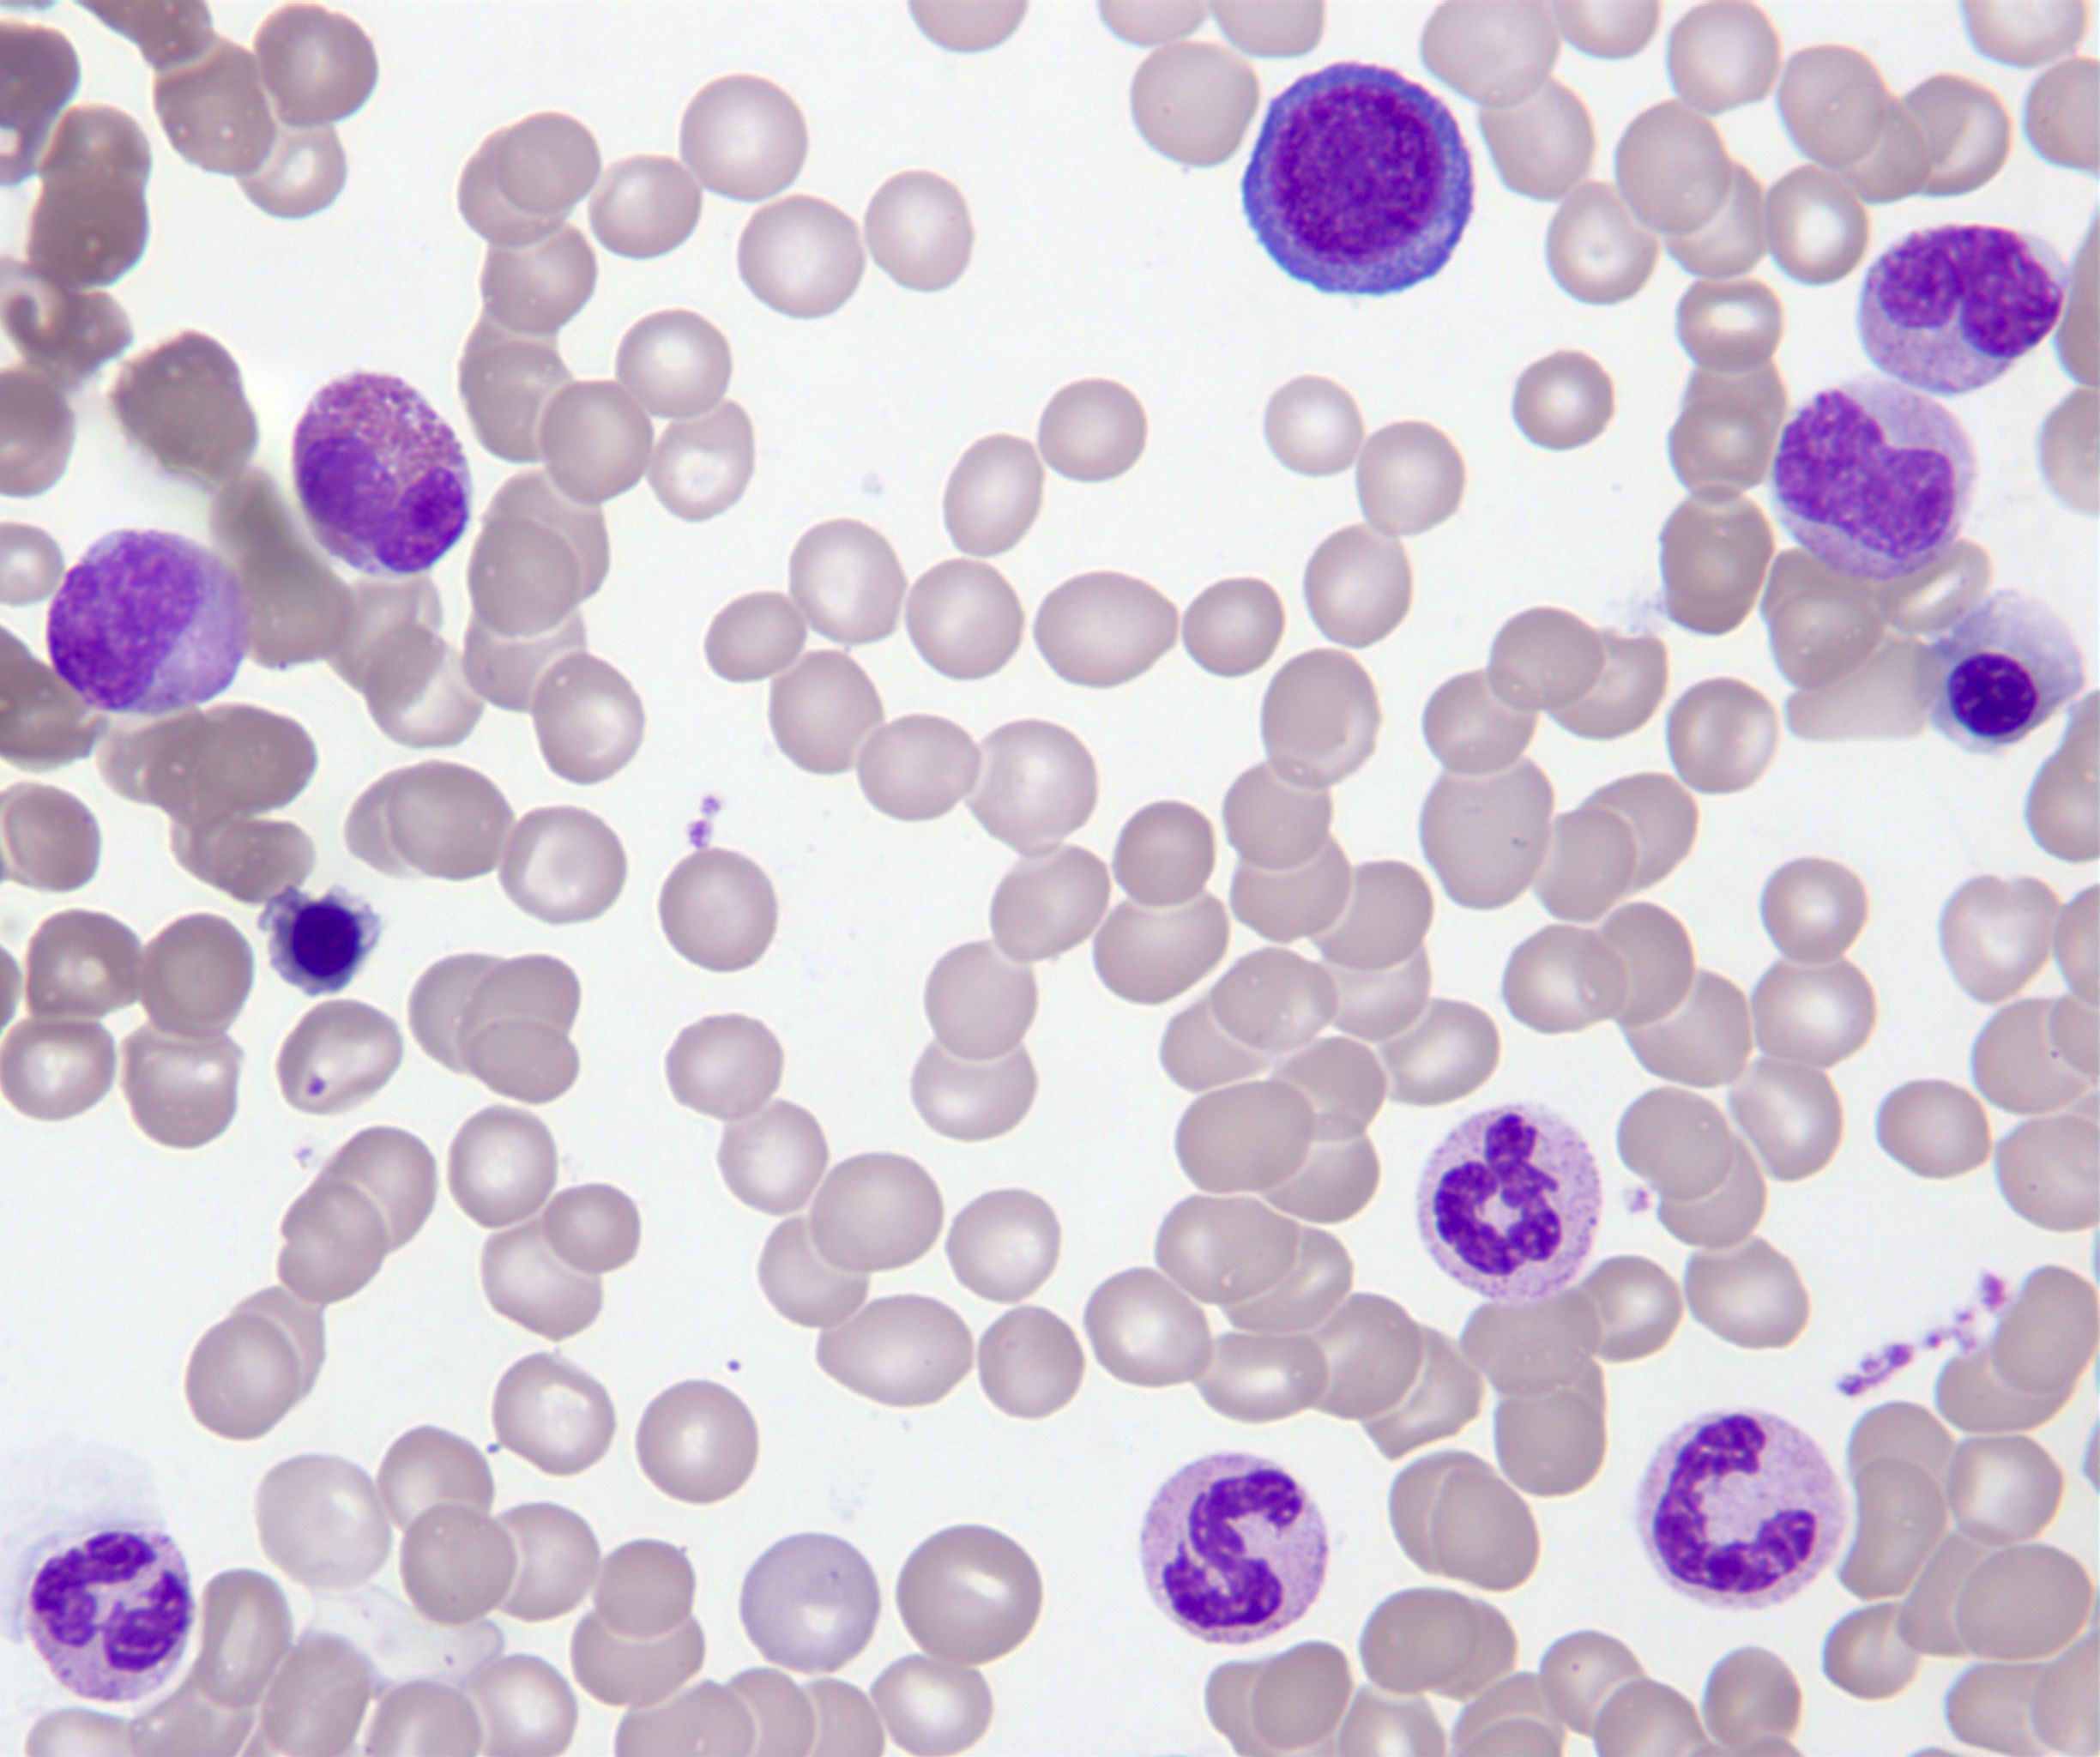2: (1912, 588, 2086, 764)
22: (1233, 58, 1481, 302)
24: (255, 879, 387, 1002)
3: (40, 523, 260, 722)
4: (1760, 380, 1985, 586), (1852, 220, 2079, 401)
5: (1634, 1408, 1849, 1617), (1413, 1096, 1606, 1309), (1137, 1448, 1331, 1651)
6: (19, 1521, 201, 1705)
E4: (284, 365, 480, 583)
